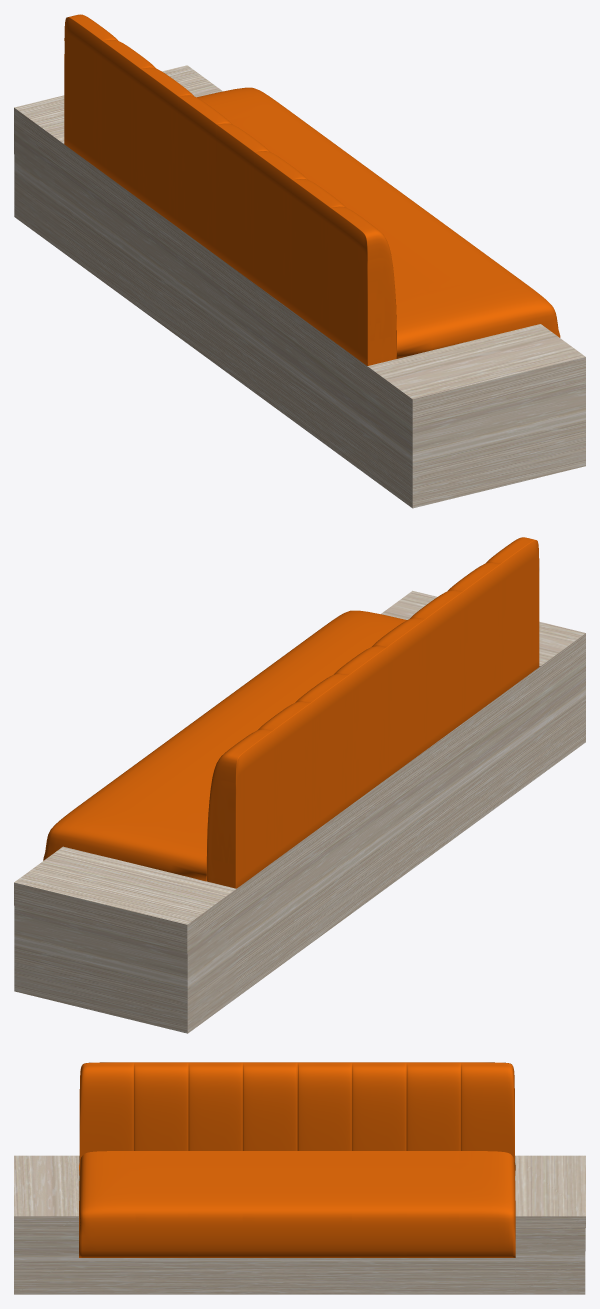
Rendered from couch.gltf.
3 renders of one model, top to bottom at view 1: azimuth 30°, elevation 25°; view 2: azimuth 150°, elevation 25°; view 3: azimuth 270°, elevation 25°, orthographic. The views are drawn at different scales.
Visible parts, largest first — view 1: Cube.001, Cube, Cube.002; view 2: Cube.001, Cube, Cube.002; view 3: Cube.002, Cube, Cube.001.
Boxes of the visible parts, <box> form: Cube.001: <box>14,65,585,508</box>; Cube: <box>64,14,396,365</box>; Cube.002: <box>197,87,560,358</box>; Cube.001: <box>14,590,585,1033</box>; Cube: <box>206,537,539,888</box>; Cube.002: <box>43,610,406,881</box>; Cube.002: <box>79,1151,515,1257</box>; Cube: <box>79,1062,514,1161</box>; Cube.001: <box>14,1155,585,1294</box>.
Size of the model in its own units: 0.9341 by 1.1 by 3.31.
2 materials, 1 textured.
